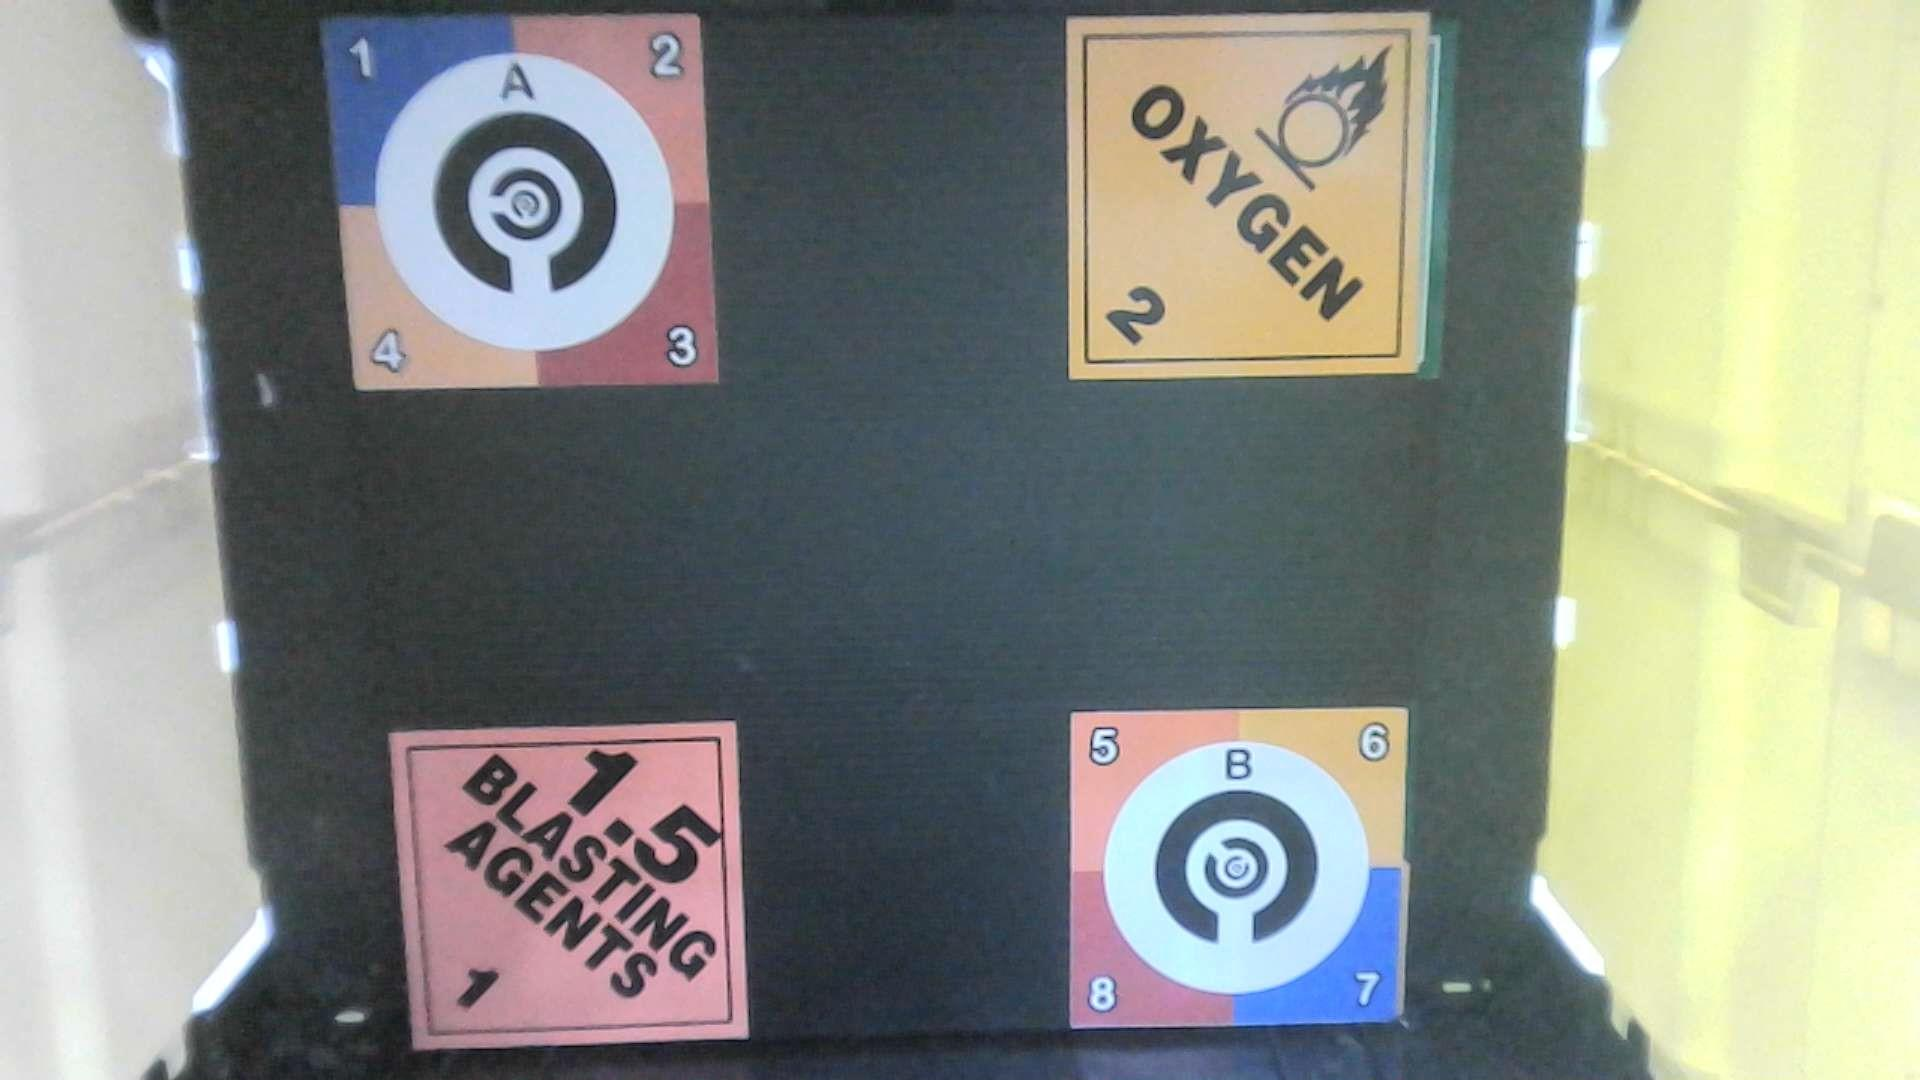explosive: (375, 719, 771, 1062)
oxidizer: (1048, 1, 1448, 382)
